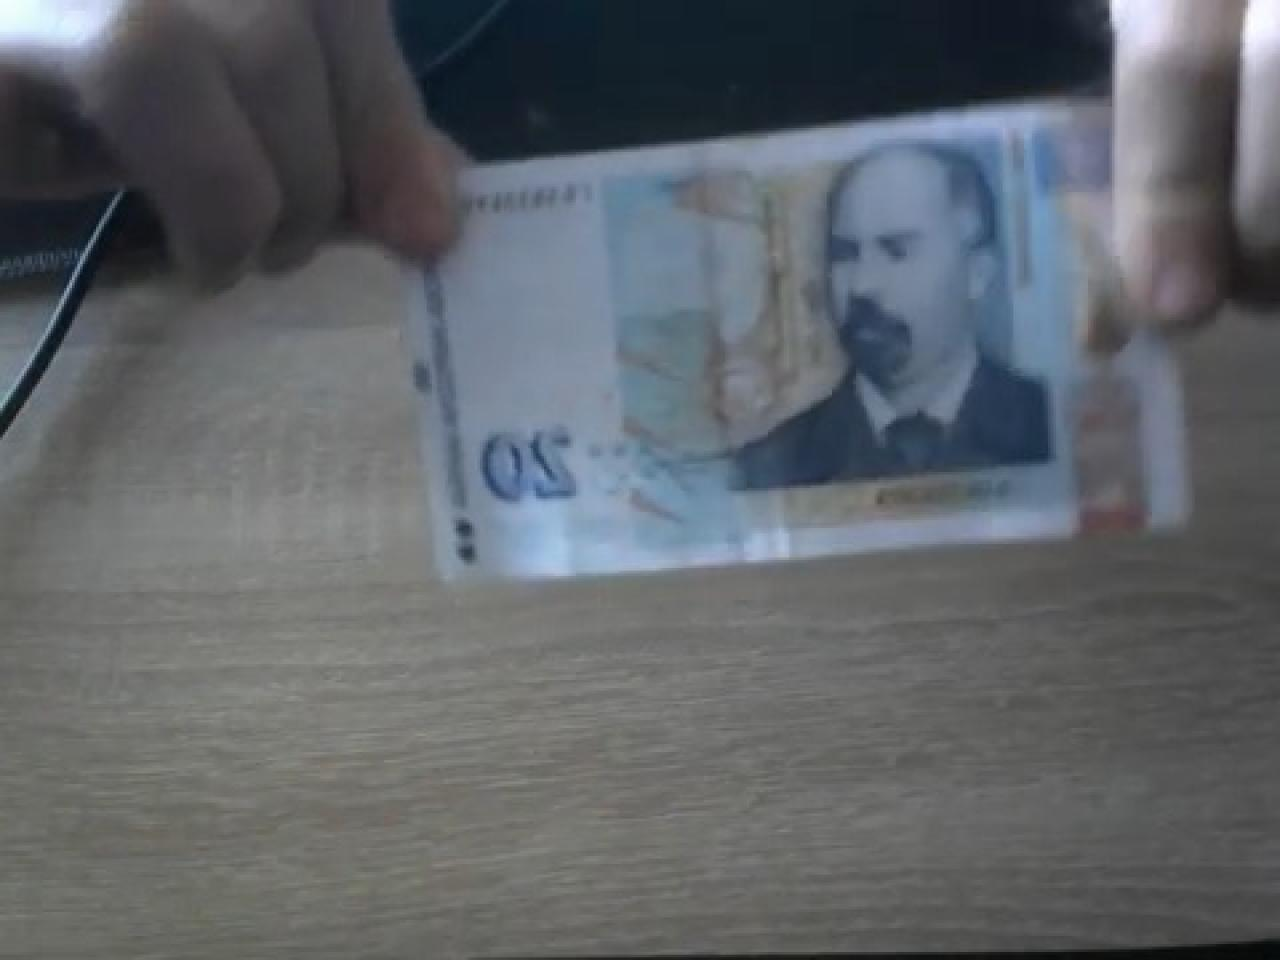20leva: (410, 157, 840, 581)
